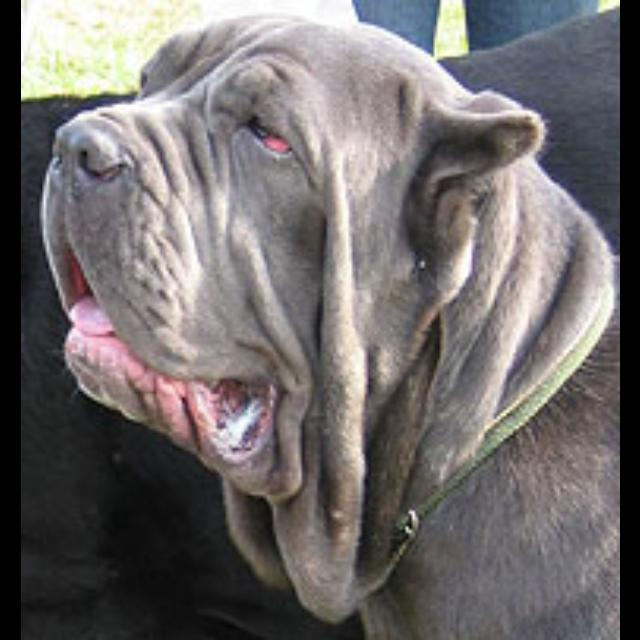mastino_napoletano: (22, 8, 617, 638)
